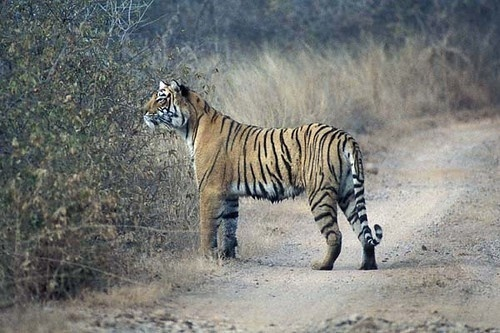tigre: (137, 75, 388, 275)
